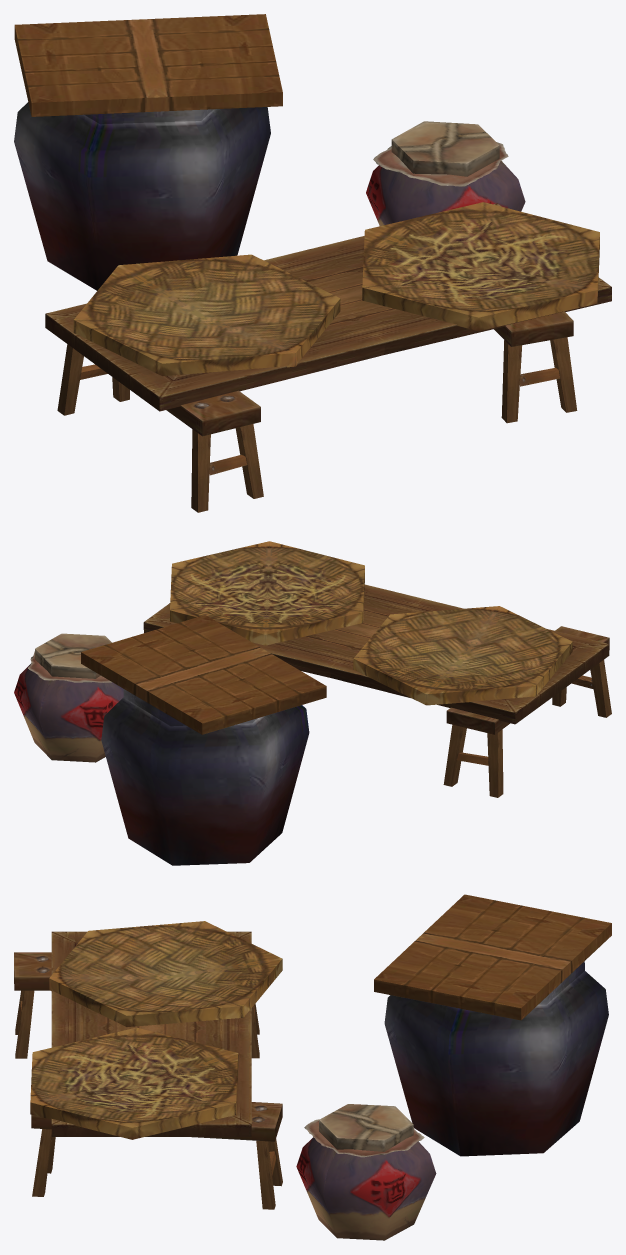
Rendered from szc_object_tanwei12a.FBX.
3 views of the same model, one above another, from view 1: azimuth 30°, elevation 25°; view 2: azimuth 150°, elevation 25°; view 3: azimuth 270°, elevation 25° (orthographic). The views are drawn at different scales.
Parts seen in each view (by area): view 1: szc_object_tanwei12a; view 2: szc_object_tanwei12a; view 3: szc_object_tanwei12a.
Part boxes in pixels (left/top/right/bottom): szc_object_tanwei12a: left=14, top=14, right=611, bottom=512; szc_object_tanwei12a: left=14, top=541, right=611, bottom=865; szc_object_tanwei12a: left=14, top=894, right=611, bottom=1240.
Bounding box in the file's own units: 306 × 109 × 337.
